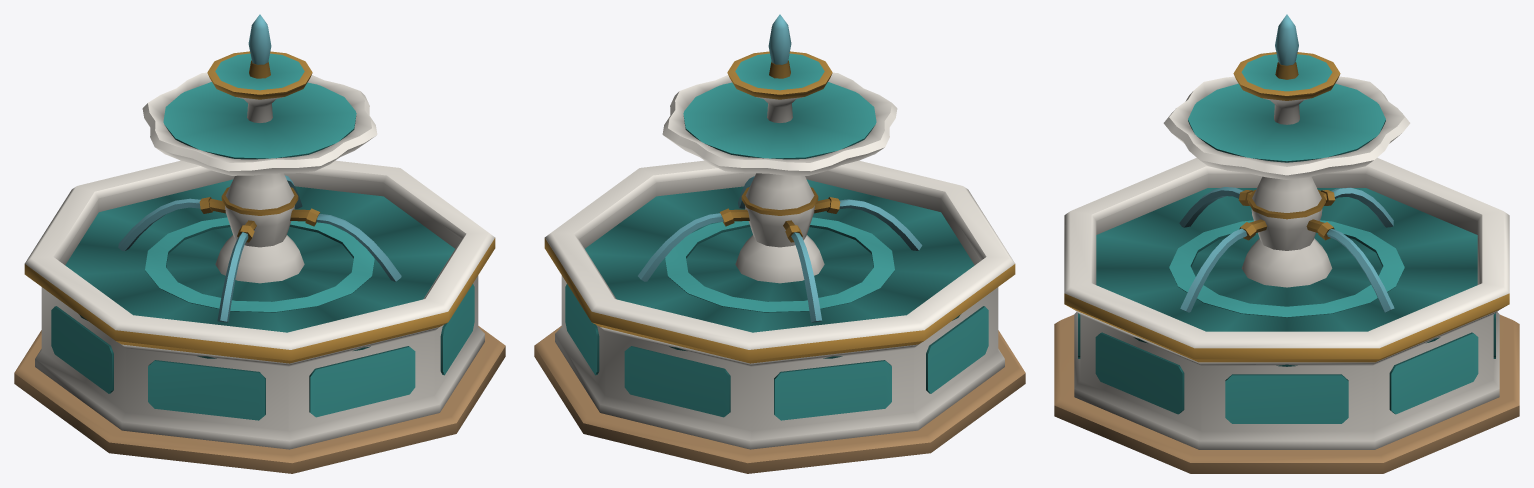
Rendered from fountain_small.fbx.
3 views of the same model, side by side, from view 1: azimuth 30°, elevation 25°; view 2: azimuth 150°, elevation 25°; view 3: azimuth 270°, elevation 25° (orthographic).
Visible parts, largest first — view 1: fountain_small; view 2: fountain_small; view 3: fountain_small.
Part boxes in pixels (x1,y1,x2,y2): fountain_small: (14, 14, 505, 473); fountain_small: (534, 14, 1025, 473); fountain_small: (1054, 14, 1519, 473).
Bounding box in the file's own units: 1.74 × 1.49 × 1.74.
